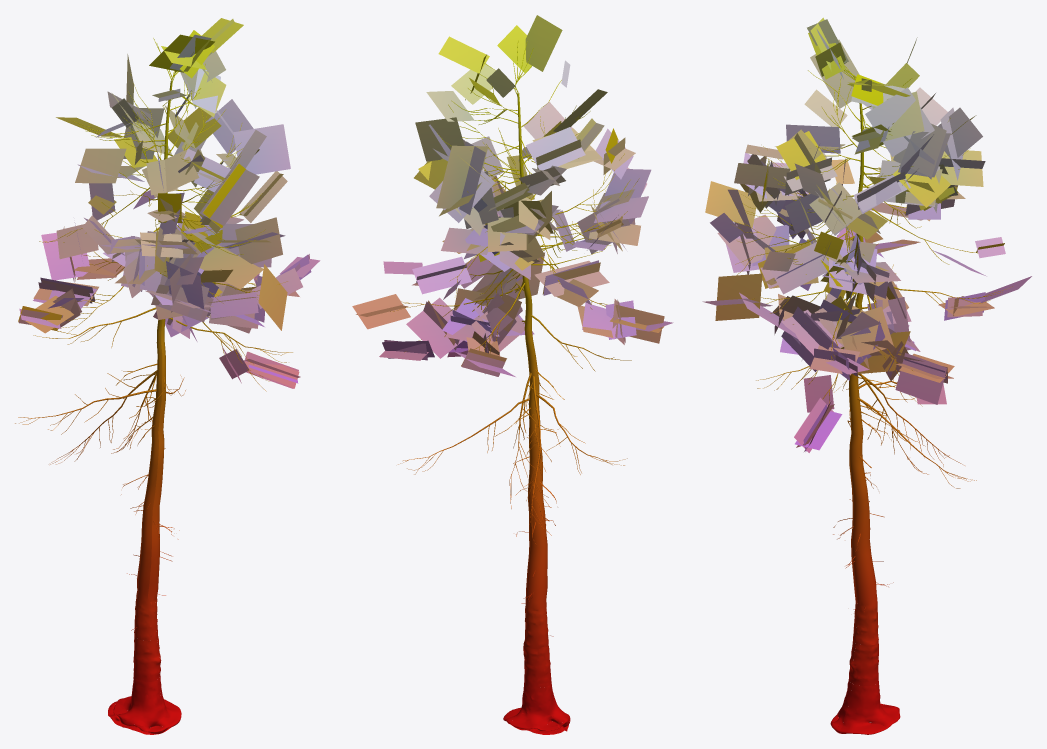
File: fir_c.glb
The picture shows the model from 3 angles, left to right: view 1: azimuth 30°, elevation 25°; view 2: azimuth 150°, elevation 25°; view 3: azimuth 270°, elevation 25°; orthographic projection. The views are drawn at different scales.
Parts seen in each view (by area): view 1: cards_lod0, trunk_lod0, branches_lod0; view 2: cards_lod0, trunk_lod0, branches_lod0; view 3: cards_lod0, trunk_lod0, branches_lod0.
Part boxes in pixels (x1=…): cards_lod0: x1=18, y1=18, x2=320, y2=388; trunk_lod0: x1=108, y1=81, x2=181, y2=734; branches_lod0: x1=15, y1=38, x2=292, y2=630; cards_lod0: x1=352, y1=15, x2=673, y2=376; trunk_lod0: x1=503, y1=93, x2=570, y2=734; branches_lod0: x1=390, y1=40, x2=639, y2=636; cards_lod0: x1=702, y1=17, x2=1031, y2=452; trunk_lod0: x1=830, y1=103, x2=900, y2=734; branches_lod0: x1=732, y1=53, x2=1012, y2=626.
Size of what is drawn, in the model's own units: 5.18 by 11.77 by 4.9.
